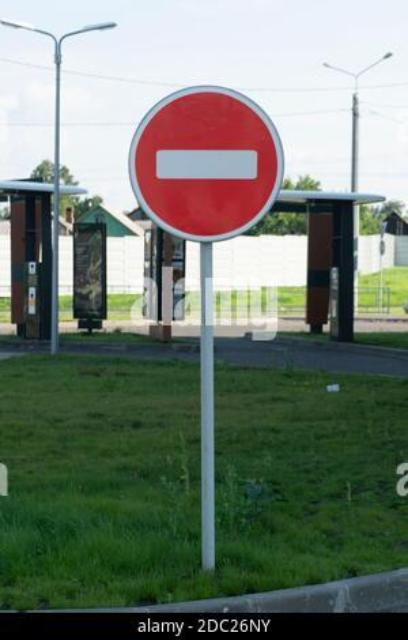B2: (126, 82, 286, 242)
